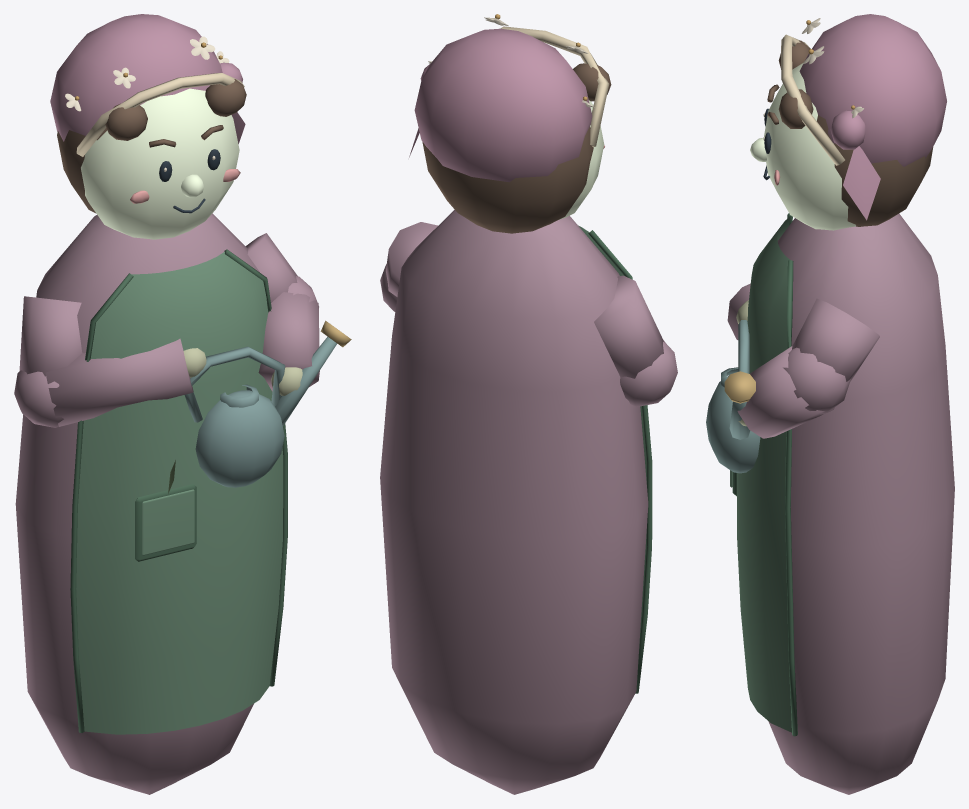
Rendered from vendor_florist.glb.
3 views of the same model, side by side, from view 1: azimuth 30°, elevation 25°; view 2: azimuth 150°, elevation 25°; view 3: azimuth 270°, elevation 25° (orthographic).
Visible parts, largest first — view 1: vendor_florist; view 2: vendor_florist; view 3: vendor_florist.
Boxes of the visible parts, box(x1,y1,x2,y2) form: vendor_florist: box(14, 14, 351, 794); vendor_florist: box(380, 14, 677, 794); vendor_florist: box(706, 14, 954, 794).
Bounding box in the file's own units: 0.6577 × 1.66 × 0.4862.
